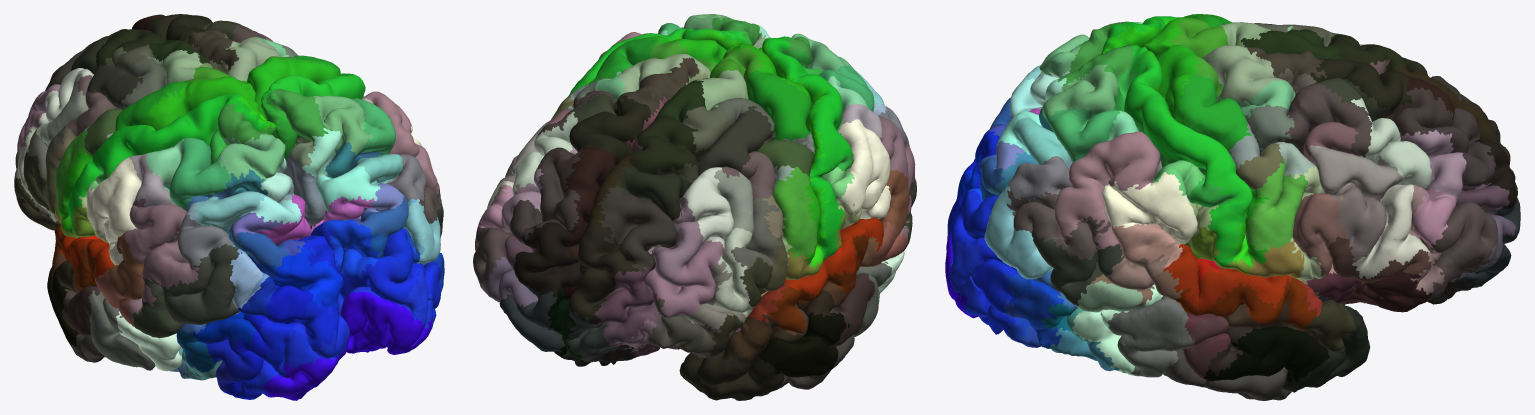
Rendered from cortex-hcp-mmp.glb.
3 views of the same model, side by side, from view 1: azimuth 30°, elevation 25°; view 2: azimuth 150°, elevation 25°; view 3: azimuth 270°, elevation 25° (orthographic). The views are drawn at different scales.
Visible parts, largest first — view 1: hcp-mmp:left:51, hcp-mmp:left:149, hcp-mmp:left:151, hcp-mmp:right:1, hcp-mmp:left:5, hcp-mmp:left:8, hcp-mmp:left:148, hcp-mmp:left:6, hcp-mmp:left:47, hcp-mmp:right:5, hcp-mmp:left:13, hcp-mmp:left:133 (+79 smaller); view 2: hcp-mmp:left:51, hcp-mmp:left:87, hcp-mmp:left:131, hcp-mmp:left:148, hcp-mmp:left:72, hcp-mmp:right:72, hcp-mmp:left:132, hcp-mmp:left:85, hcp-mmp:right:70, hcp-mmp:left:54, hcp-mmp:left:70, hcp-mmp:left:67 (+72 smaller); view 3: hcp-mmp:right:51, hcp-mmp:right:149, hcp-mmp:right:133, hcp-mmp:right:132, hcp-mmp:right:148, hcp-mmp:right:77, hcp-mmp:right:175, hcp-mmp:right:67, hcp-mmp:right:56, hcp-mmp:right:54, hcp-mmp:right:82, hcp-mmp:right:83 (+81 smaller).
Part boxes in pixels (x1,y1,x2,y2): hcp-mmp:left:51: (68,93,265,233); hcp-mmp:left:149: (125,198,199,322); hcp-mmp:left:151: (142,244,242,324); hcp-mmp:right:1: (341,291,431,354); hcp-mmp:left:5: (238,235,344,399); hcp-mmp:left:8: (57,76,265,219); hcp-mmp:left:148: (86,157,141,265); hcp-mmp:left:6: (224,285,313,398); hcp-mmp:left:47: (169,138,231,209); hcp-mmp:right:5: (311,222,439,306); hcp-mmp:left:13: (273,245,342,309); hcp-mmp:left:133: (88,290,155,370); hcp-mmp:left:51: (763,36,852,259); hcp-mmp:left:87: (597,186,677,272); hcp-mmp:left:131: (679,343,784,400); hcp-mmp:left:148: (837,119,891,219); hcp-mmp:left:72: (567,224,638,324); hcp-mmp:right:72: (513,222,581,297); hcp-mmp:left:132: (758,312,849,377); hcp-mmp:left:85: (643,240,723,317); hcp-mmp:right:70: (569,94,651,164); hcp-mmp:left:54: (747,70,810,141); hcp-mmp:left:70: (629,116,698,172); hcp-mmp:left:67: (697,106,773,175); hcp-mmp:right:51: (1124,45,1252,266); hcp-mmp:right:149: (1054,131,1160,249); hcp-mmp:right:133: (1107,296,1194,377); hcp-mmp:right:132: (1203,325,1329,382); hcp-mmp:right:148: (1102,172,1197,244); hcp-mmp:right:77: (1426,202,1497,299); hcp-mmp:right:175: (1163,244,1299,311); hcp-mmp:right:67: (1260,83,1372,157); hcp-mmp:right:56: (1245,158,1308,250); hcp-mmp:right:54: (1179,75,1251,151); hcp-mmp:right:82: (1352,184,1429,278); hcp-mmp:right:83: (1309,145,1403,201).
Bounding box in the file's own units: 0.1276 × 0.1108 × 0.1827.
